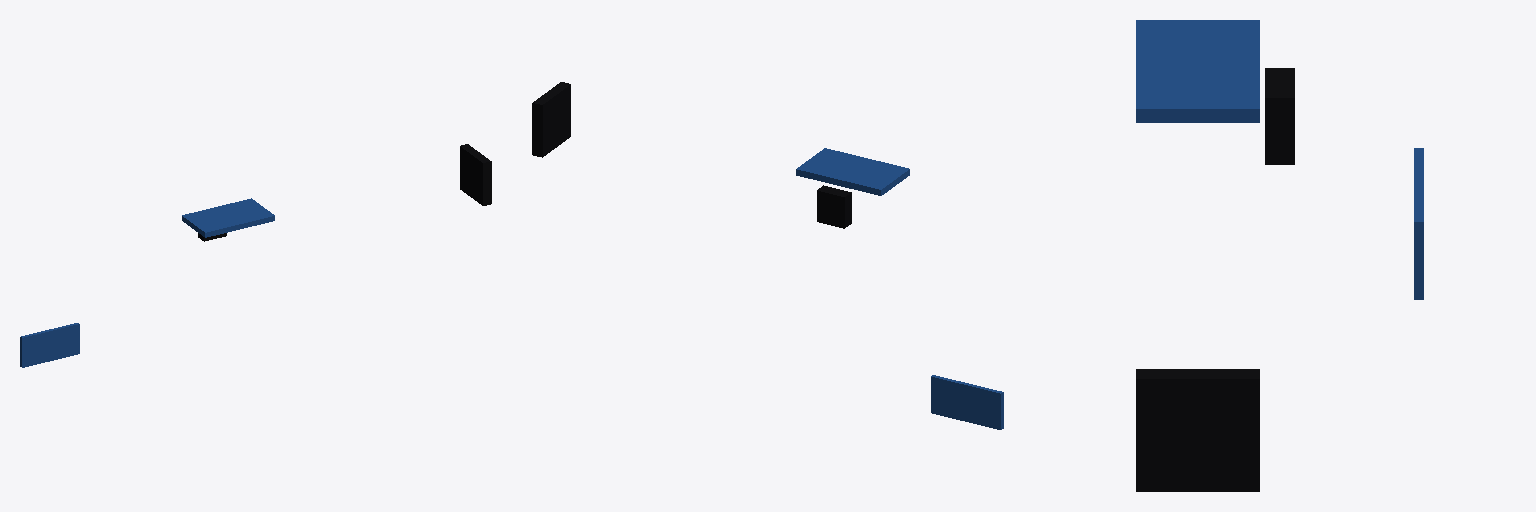
The robot description file, URDF, robot "service_manipulator":
<robot name="service_manipulator">
  <material name="charcoal">
    <color rgba="0.22 0.23 0.26 1" />
    </material>
  <material name="silver">
    <color rgba="0.73 0.75 0.78 1" />
    </material>
  <material name="accent_blue">
    <color rgba="0.17 0.35 0.58 1" />
    </material>
  <material name="rubber">
    <color rgba="0.08 0.08 0.09 1" />
    </material>
  <link name="base">
    <inertial>
      <origin xyz="0 0 0.065" rpy="0 0 0" />
      <mass value="11" />
      <inertia ixx="0.0451917" ixy="0" ixz="0" iyy="0.0598583" iyz="0" izz="0.0740667" />
      </inertial>
    <visual>
      <geometry>
        <mesh filename="meshes/base.obj" />
        </geometry>
      <material name="charcoal" />
      </visual>
    <visual>
      <origin xyz="0 0.089 0.052" rpy="0 0 0" />
      <geometry>
        <box size="0.07 0.004 0.035" />
        </geometry>
      <material name="accent_blue" />
      </visual>
    <collision name="base__visual_1__hull_001">
      <geometry>
        <mesh filename="meshes/collision/cache/base__b840e5feb5521f97__hull_001.obj" />
        </geometry>
      </collision>
    <collision name="base__visual_1__hull_002">
      <geometry>
        <mesh filename="meshes/collision/cache/base__b840e5feb5521f97__hull_002.obj" />
        </geometry>
      </collision>
    <collision name="base__visual_1__hull_003">
      <geometry>
        <mesh filename="meshes/collision/cache/base__b840e5feb5521f97__hull_003.obj" />
        </geometry>
      </collision>
    <collision name="base__visual_2">
      <origin xyz="0 0.089 0.052" rpy="0 0 0" />
      <geometry>
        <box size="0.07 0.004 0.035" />
        </geometry>
      </collision>
    </link>
  <link name="arm_outer">
    <inertial>
      <origin xyz="0.12 0 0.0375" rpy="0 0 0" />
      <mass value="4.5" />
      <inertia ixx="0.00585938" ixy="0" ixz="0" iyy="0.0315094" iyz="0" izz="0.03315" />
      </inertial>
    <visual>
      <geometry>
        <mesh filename="meshes/arm_outer.obj" />
        </geometry>
      <material name="charcoal" />
      </visual>
    <visual>
      <origin xyz="0.165 0 0.067" rpy="0 0 0" />
      <geometry>
        <box size="0.085 0.05 0.006" />
        </geometry>
      <material name="accent_blue" />
      </visual>
    <collision name="arm_outer__visual_1__hull_001">
      <geometry>
        <mesh filename="meshes/collision/cache/arm_outer__025fa8a208436099__hull_001.obj" />
        </geometry>
      </collision>
    <collision name="arm_outer__visual_1__hull_002">
      <geometry>
        <mesh filename="meshes/collision/cache/arm_outer__025fa8a208436099__hull_002.obj" />
        </geometry>
      </collision>
    <collision name="arm_outer__visual_1__hull_003">
      <geometry>
        <mesh filename="meshes/collision/cache/arm_outer__025fa8a208436099__hull_003.obj" />
        </geometry>
      </collision>
    <collision name="arm_outer__visual_1__hull_004">
      <geometry>
        <mesh filename="meshes/collision/cache/arm_outer__025fa8a208436099__hull_004.obj" />
        </geometry>
      </collision>
    <collision name="arm_outer__visual_1__hull_005">
      <geometry>
        <mesh filename="meshes/collision/cache/arm_outer__025fa8a208436099__hull_005.obj" />
        </geometry>
      </collision>
    <collision name="arm_outer__visual_1__hull_006">
      <geometry>
        <mesh filename="meshes/collision/cache/arm_outer__025fa8a208436099__hull_006.obj" />
        </geometry>
      </collision>
    <collision name="arm_outer__visual_1__hull_007">
      <geometry>
        <mesh filename="meshes/collision/cache/arm_outer__025fa8a208436099__hull_007.obj" />
        </geometry>
      </collision>
    <collision name="arm_outer__visual_1__hull_008">
      <geometry>
        <mesh filename="meshes/collision/cache/arm_outer__025fa8a208436099__hull_008.obj" />
        </geometry>
      </collision>
    <collision name="arm_outer__visual_2">
      <origin xyz="0.165 0 0.067" rpy="0 0 0" />
      <geometry>
        <box size="0.085 0.05 0.006" />
        </geometry>
      </collision>
    </link>
  <link name="slide">
    <inertial>
      <origin xyz="0.07 0 0" rpy="0 0 0" />
      <mass value="2.2" />
      <inertia ixx="0.00183333" ixy="0" ixz="0" iyy="0.0135346" iyz="0" izz="0.0140479" />
      </inertial>
    <visual>
      <geometry>
        <mesh filename="meshes/slide.obj" />
        </geometry>
      <material name="silver" />
      </visual>
    <visual>
      <origin xyz="0.03 0.033 0" rpy="0 0 0" />
      <geometry>
        <box size="0.028 0.012 0.03" />
        </geometry>
      <material name="rubber" />
      </visual>
    <collision name="slide__visual_1__hull_001">
      <geometry>
        <mesh filename="meshes/collision/cache/slide__2f9eb33b9fb4c0d0__hull_001.obj" />
        </geometry>
      </collision>
    <collision name="slide__visual_1__hull_002">
      <geometry>
        <mesh filename="meshes/collision/cache/slide__2f9eb33b9fb4c0d0__hull_002.obj" />
        </geometry>
      </collision>
    <collision name="slide__visual_1__hull_003">
      <geometry>
        <mesh filename="meshes/collision/cache/slide__2f9eb33b9fb4c0d0__hull_003.obj" />
        </geometry>
      </collision>
    <collision name="slide__visual_1__hull_004">
      <geometry>
        <mesh filename="meshes/collision/cache/slide__2f9eb33b9fb4c0d0__hull_004.obj" />
        </geometry>
      </collision>
    <collision name="slide__visual_2">
      <origin xyz="0.03 0.033 0" rpy="0 0 0" />
      <geometry>
        <box size="0.028 0.012 0.03" />
        </geometry>
      </collision>
    </link>
  <link name="wrist">
    <inertial>
      <origin xyz="0.07 0 0" rpy="0 0 0" />
      <mass value="1.6" />
      <inertia ixx="0.00173333" ixy="0" ixz="0" iyy="0.00369333" iyz="0" izz="0.00326667" />
      </inertial>
    <visual>
      <geometry>
        <mesh filename="meshes/wrist.obj" />
        </geometry>
      <material name="silver" />
      </visual>
    <visual>
      <origin xyz="0.13 0 0" rpy="0 0 0" />
      <geometry>
        <box size="0.01 0.05 0.05" />
        </geometry>
      <material name="rubber" />
      </visual>
    <collision name="wrist__visual_1__hull_001">
      <geometry>
        <mesh filename="meshes/collision/cache/wrist__f3ed9dccc58f0287__hull_001.obj" />
        </geometry>
      </collision>
    <collision name="wrist__visual_1__hull_002">
      <geometry>
        <mesh filename="meshes/collision/cache/wrist__f3ed9dccc58f0287__hull_002.obj" />
        </geometry>
      </collision>
    <collision name="wrist__visual_1__hull_003">
      <geometry>
        <mesh filename="meshes/collision/cache/wrist__f3ed9dccc58f0287__hull_003.obj" />
        </geometry>
      </collision>
    <collision name="wrist__visual_1__hull_004">
      <geometry>
        <mesh filename="meshes/collision/cache/wrist__f3ed9dccc58f0287__hull_004.obj" />
        </geometry>
      </collision>
    <collision name="wrist__visual_2">
      <origin xyz="0.13 0 0" rpy="0 0 0" />
      <geometry>
        <box size="0.01 0.05 0.05" />
        </geometry>
      </collision>
    </link>
  <joint name="base_swivel" type="revolute">
    <origin xyz="0 0 0.13" rpy="0 0 0" />
    <parent link="base" />
    <child link="arm_outer" />
    <axis xyz="0 0 1" />
    <limit effort="50" velocity="1.2" lower="-3.14159" upper="3.14159" />
    </joint>
  <joint name="mid_slide" type="prismatic">
    <origin xyz="0.135 0 0.047" rpy="0 0 0" />
    <parent link="arm_outer" />
    <child link="slide" />
    <axis xyz="1 0 0" />
    <limit effort="40" velocity="0.25" lower="0" upper="0.18" />
    </joint>
  <joint name="wrist_pitch" type="revolute">
    <origin xyz="0.2 0 0" rpy="0 0 0" />
    <parent link="slide" />
    <child link="wrist" />
    <axis xyz="0 -1 0" />
    <limit effort="18" velocity="1.8" lower="-1.15" upper="1.1" />
    </joint>
  </robot>

--- Facts derived from the render (not from the file) ---
3 views of the same robot in one strip: view 1: azimuth 30°, elevation 25°; view 2: azimuth 150°, elevation 25°; view 3: azimuth 270°, elevation 25° (orthographic).
Robot: service_manipulator — 4 links, 3 joints (2 revolute, 1 prismatic); root link base; default pose: every joint at zero.
Links seen in each view (by area): view 1: arm_outer, base, wrist; view 2: arm_outer, base, wrist, slide; view 3: wrist, arm_outer, slide, base.
Boxes of the visible links, x1,y1,x2,y2 form: arm_outer: [182, 198, 274, 237]; base: [20, 323, 79, 367]; wrist: [460, 144, 491, 205]; arm_outer: [796, 148, 909, 195]; base: [931, 375, 1003, 429]; wrist: [532, 82, 570, 157]; slide: [817, 185, 851, 228]; wrist: [1136, 369, 1259, 491]; arm_outer: [1136, 20, 1259, 122]; slide: [1265, 68, 1294, 164]; base: [1414, 148, 1423, 299].
Bounding box of the posed robot: 0.505 × 0.116 × 0.1675 m (x, y, z).
0 mesh visuals loaded from 4 distinct referenced files (none loaded); not drawn: 4 (reference not matched to a file when rendering).
